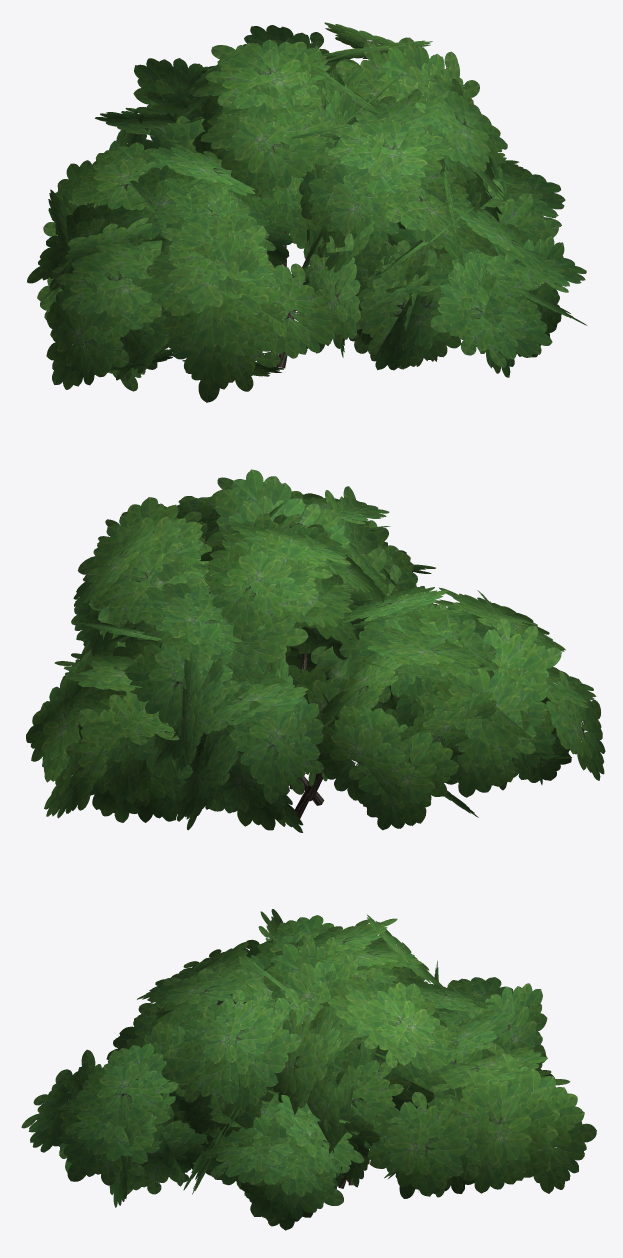
Rendered from meadow_bush04.glb.
3 views of the same model, one above another, from view 1: azimuth 30°, elevation 25°; view 2: azimuth 150°, elevation 25°; view 3: azimuth 270°, elevation 25° (orthographic). The views are drawn at different scales.
Visible parts, largest first — view 1: meadow_bush04; view 2: meadow_bush04; view 3: meadow_bush04.
Part boxes in pixels (x1,y1,x2,y2): meadow_bush04: (27,22,587,402); meadow_bush04: (26,469,605,832); meadow_bush04: (21,909,596,1230).
Size of the model in its own units: 1.48 by 0.8146 by 1.53.
Materials: 2 (2 with a texture image).
